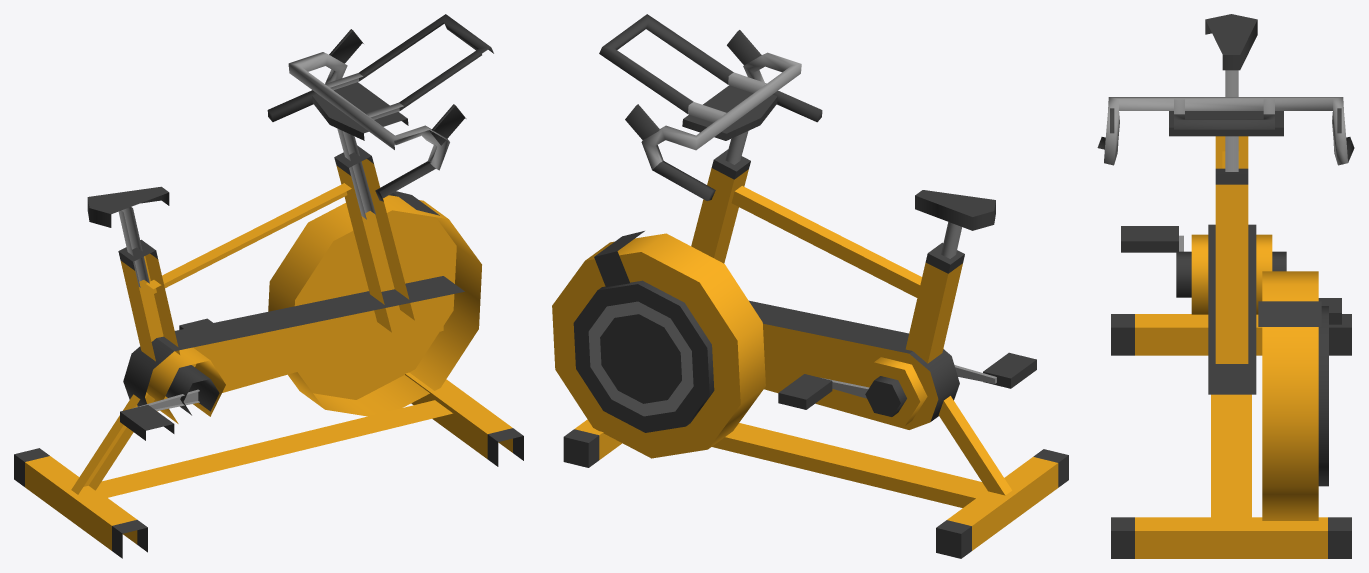
The model's file is interior_k_002.fbx.
3 views of the same model, side by side, from view 1: azimuth 30°, elevation 25°; view 2: azimuth 150°, elevation 25°; view 3: azimuth 270°, elevation 25° (orthographic). The views are drawn at different scales.
Visible parts, largest first — view 1: interior_k_002; view 2: interior_k_002; view 3: interior_k_002.
Boxes of the visible parts, box(x1,y1,x2,y2) form: interior_k_002: box(14, 14, 523, 558); interior_k_002: box(552, 14, 1068, 558); interior_k_002: box(1097, 14, 1354, 558).
Size of the model in its own units: 133 by 117 by 62.29.
